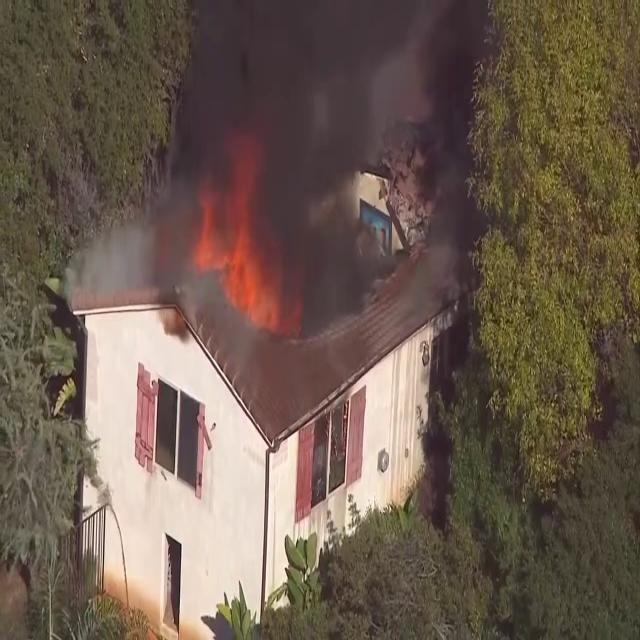Smoke: (123, 0, 488, 332)
